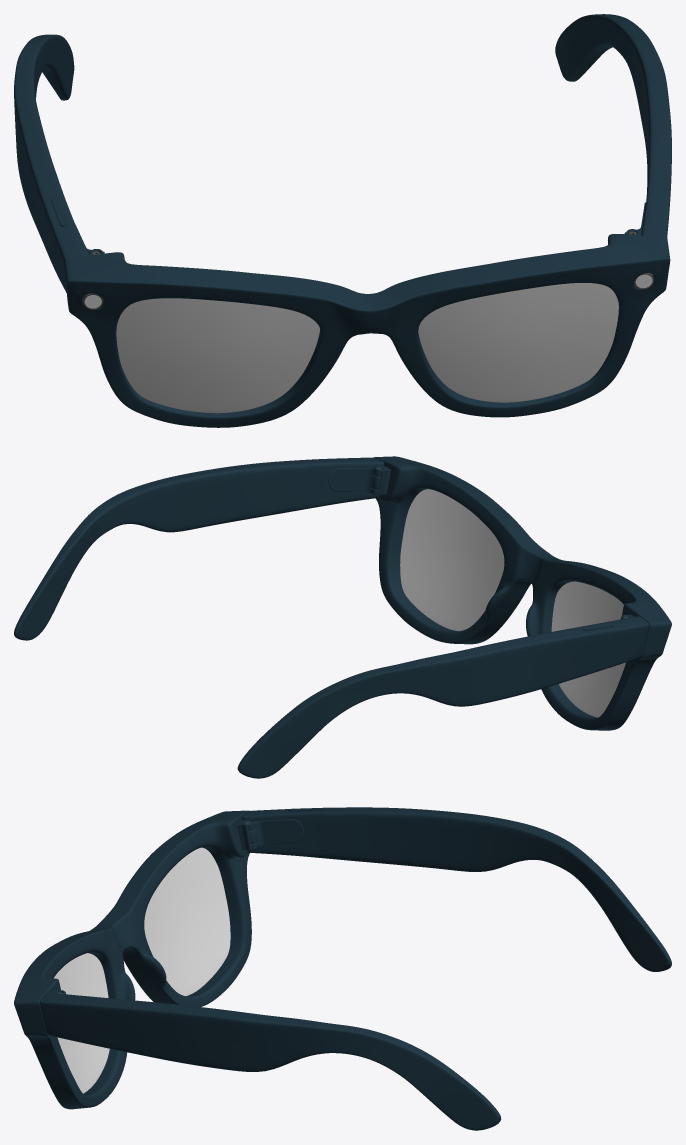
Rendered from glasses.gltf.
The picture shows the model from 3 angles, top to bottom: view 1: azimuth 30°, elevation 25°; view 2: azimuth 150°, elevation 25°; view 3: azimuth 270°, elevation 25°; orthographic projection. The views are drawn at different scales.
Visible parts, largest first — view 1: Glasses; view 2: Glasses; view 3: Glasses.
Part boxes in pixels (x1,y1,x2,y2): Glasses: (14, 14, 671, 427); Glasses: (14, 456, 671, 778); Glasses: (14, 807, 671, 1130).
Size of the model in its own units: 5.71 by 1.79 by 5.97.
